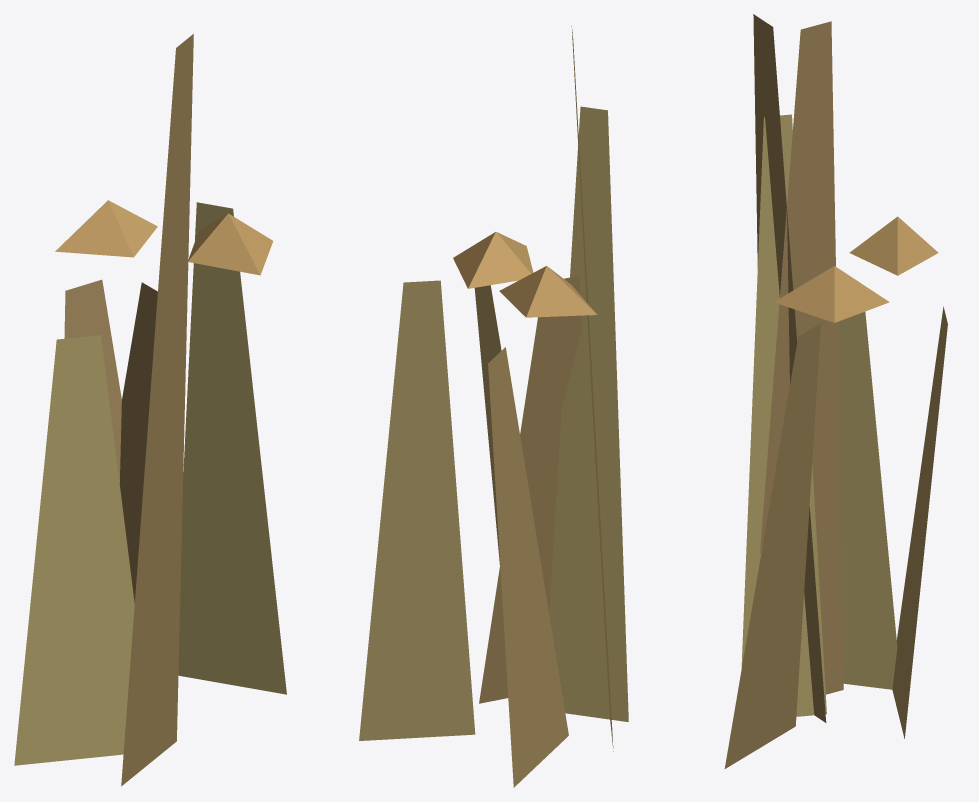
File: crop.temp.wheat__autumn.glb
The picture shows the model from 3 angles, left to right: view 1: azimuth 30°, elevation 25°; view 2: azimuth 150°, elevation 25°; view 3: azimuth 270°, elevation 25°; orthographic projection. The views are drawn at different scales.
Parts seen in each view (by area): view 1: crop.temp.wheat__autumn; view 2: crop.temp.wheat__autumn; view 3: crop.temp.wheat__autumn.
Part boxes in pixels (x1,y1,x2,y2): crop.temp.wheat__autumn: (14,34,286,786); crop.temp.wheat__autumn: (359,26,628,787); crop.temp.wheat__autumn: (724,14,947,768).
Size of the model in its own units: 0.4129 by 1 by 0.3362.
